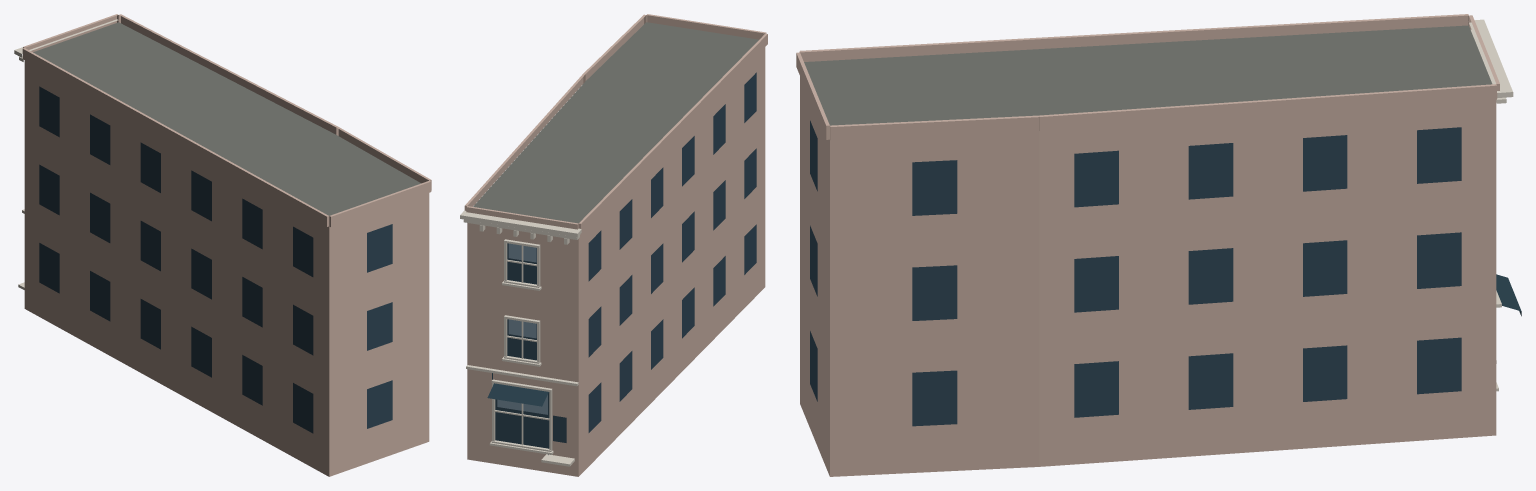
3 views of the same model, side by side, from view 1: azimuth 30°, elevation 25°; view 2: azimuth 150°, elevation 25°; view 3: azimuth 270°, elevation 25° (orthographic). The views are drawn at different scales.
Visible parts, largest first — view 1: Footprint 0 / surface 2, Footprint 0 / surface 1, Inset glazing, Facade bay volumes; view 2: Footprint 0 / surface 2, Footprint 0 / surface 1, Inset glazing, Facade bay volumes, Cornices and window frames, Sky reflection panels, Storefronts and doors; view 3: Footprint 0 / surface 2, Footprint 0 / surface 1, Inset glazing, Facade bay volumes, Cornices and window frames.
Boxes of the visible parts, box(x1,y1,x2,y2) form: Footprint 0 / surface 2: box(24, 60, 429, 476); Footprint 0 / surface 1: box(33, 22, 420, 215); Inset glazing: box(39, 86, 392, 433); Facade bay volumes: box(22, 14, 431, 227); Footprint 0 / surface 2: box(467, 47, 765, 476); Footprint 0 / surface 1: box(473, 22, 758, 223); Inset glazing: box(495, 72, 756, 448); Facade bay volumes: box(464, 14, 767, 233); Cornices and window frames: box(460, 210, 581, 466); Sky reflection panels: box(497, 243, 547, 414); Storefronts and doors: box(487, 373, 548, 454); Footprint 0 / surface 2: box(800, 76, 1496, 476); Footprint 0 / surface 1: box(804, 25, 1492, 125); Inset glazing: box(810, 120, 1461, 426); Facade bay volumes: box(796, 14, 1499, 141); Cornices and window frames: box(1469, 19, 1513, 391).
Bounding box in the file's own units: 8.7 × 12.44 × 23.27.
